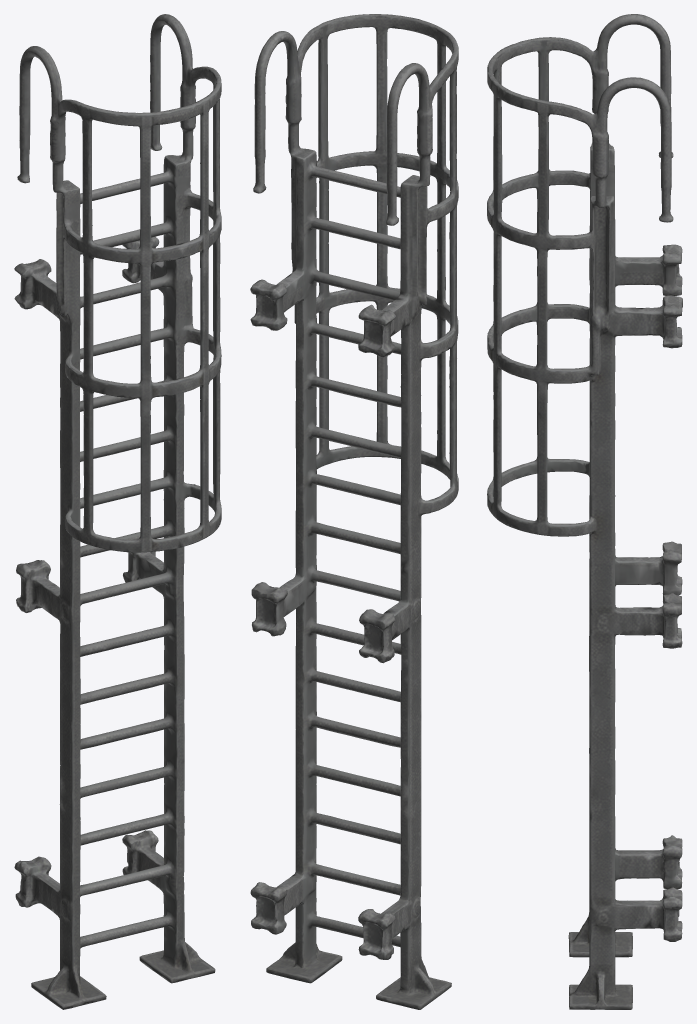
Rendered from Meshy_AI_Industrial_Caged_Ladd_1023111431_texture.glb.
3 renders of one model, left to right at view 1: azimuth 30°, elevation 25°; view 2: azimuth 150°, elevation 25°; view 3: azimuth 270°, elevation 25°, orthographic.
Size of the model in its own units: 0.3271 by 1.9 by 0.3638.
Materials: 1 (1 with a texture image).
